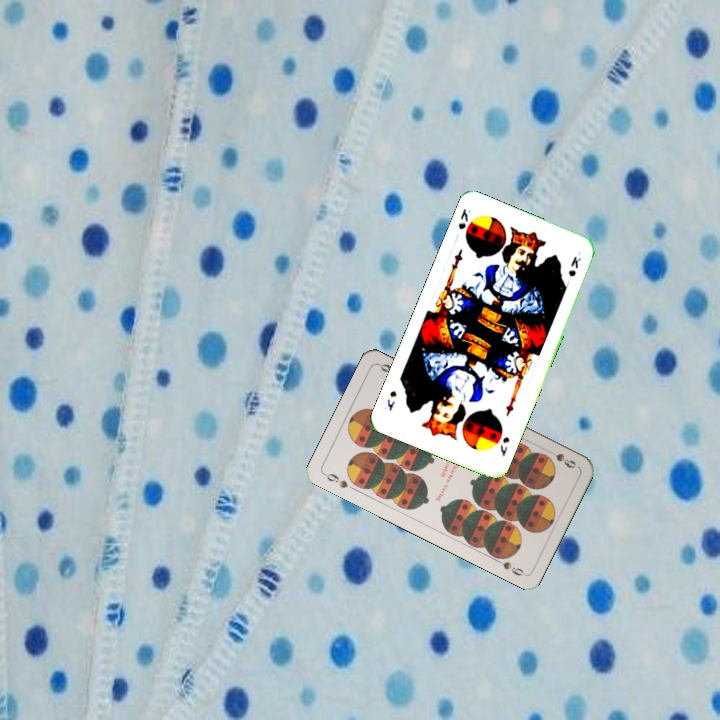S9: (542, 446, 579, 471), (320, 469, 351, 491)
SK: (454, 204, 474, 232), (496, 433, 512, 459)
